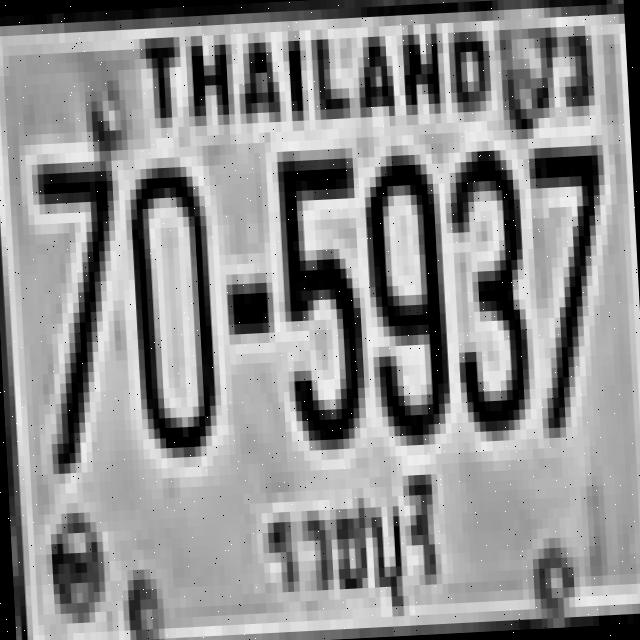0: (123, 156, 218, 450)
3: (442, 140, 526, 433)
5: (270, 148, 360, 442)
7: (31, 150, 127, 464), (528, 136, 612, 428)
9: (356, 144, 446, 438)
Ratchaburi: (252, 465, 452, 626)
